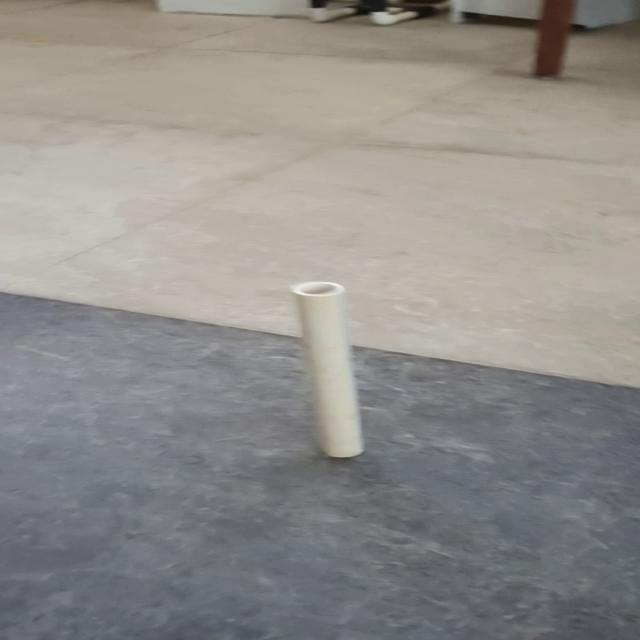Cube: (288, 280, 366, 458)
